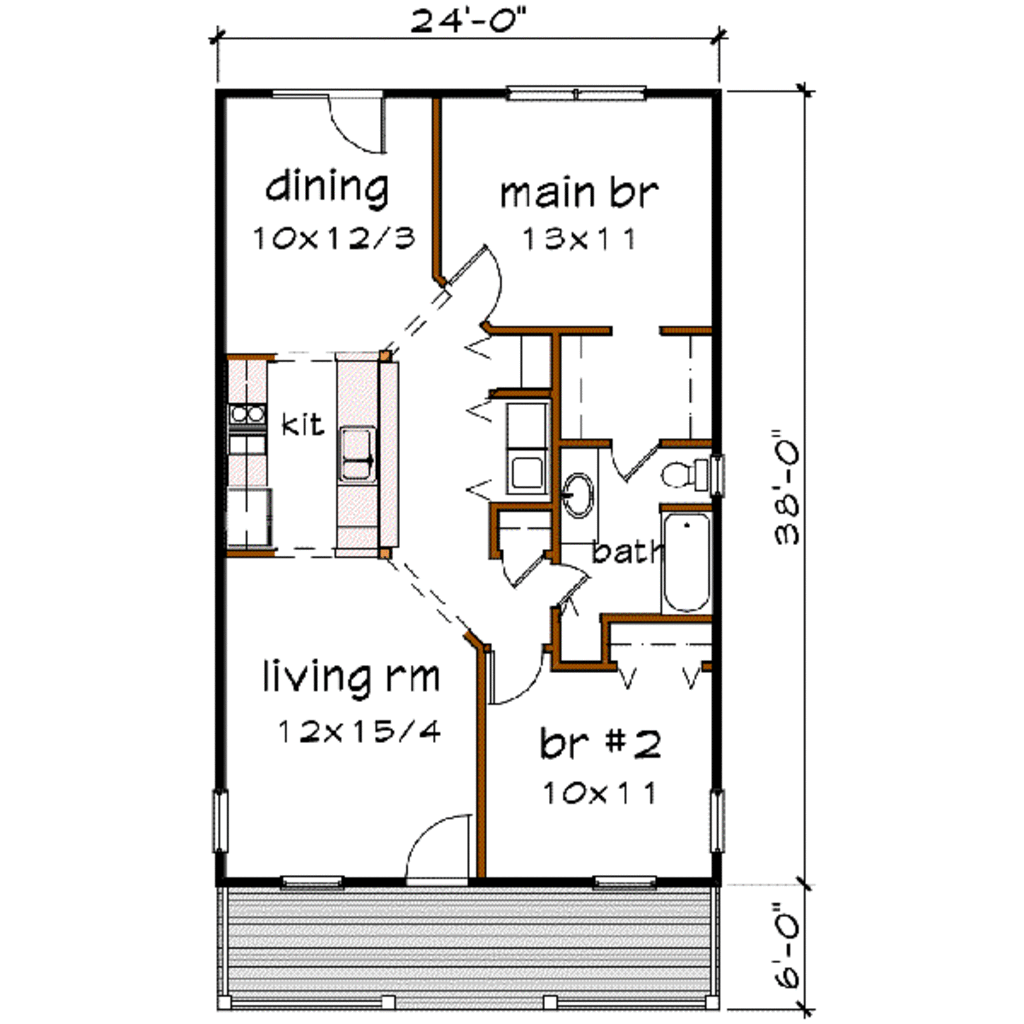door: (313, 74, 402, 163), (410, 805, 494, 898), (437, 232, 513, 330), (486, 638, 564, 714), (537, 554, 605, 620), (486, 535, 559, 590), (610, 438, 659, 487)
large_sink: (658, 444, 736, 508)
small_sink: (564, 446, 602, 544)
tub: (655, 511, 718, 619)
twin_sink: (336, 414, 405, 498)
window: (504, 79, 656, 114), (263, 868, 359, 903), (705, 773, 742, 860), (580, 862, 667, 895), (207, 778, 234, 870)
